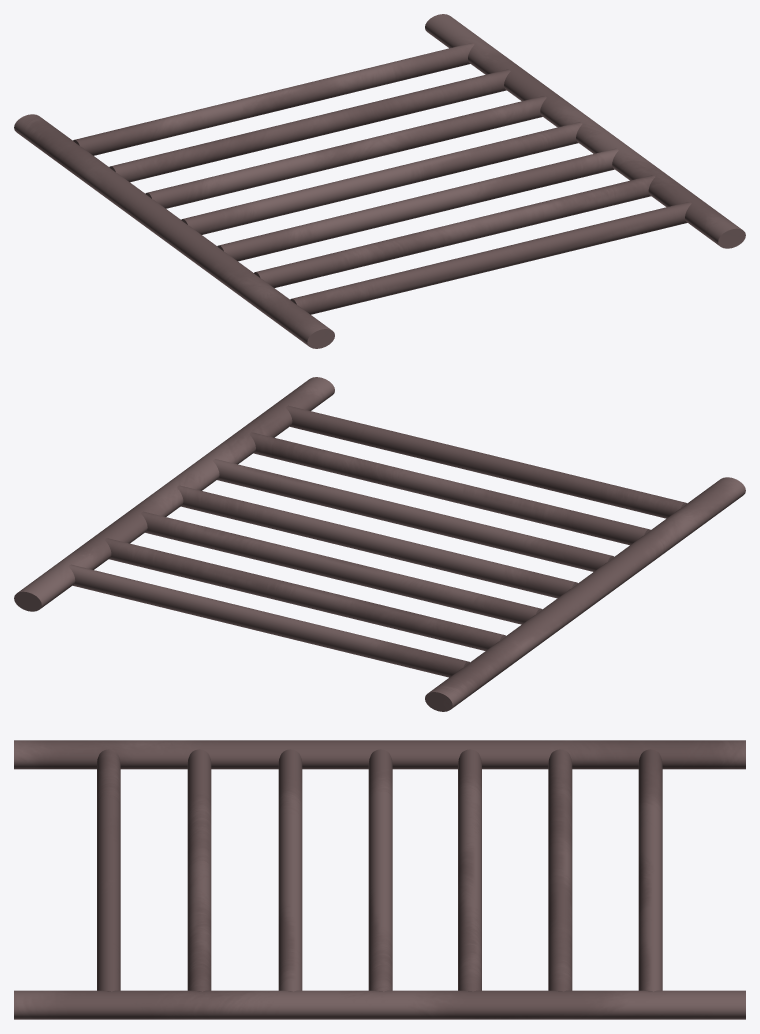
File: OvenWireThingModel.fbx
3 views of the same model, one above another, from view 1: azimuth 30°, elevation 25°; view 2: azimuth 150°, elevation 25°; view 3: azimuth 270°, elevation 25° (orthographic). The views are drawn at different scales.
Visible parts, largest first — view 1: Wire_thing; view 2: Wire_thing; view 3: Wire_thing.
Part boxes in pixels (<box>): Wire_thing: <box>14,14,745,348</box>; Wire_thing: <box>14,377,745,711</box>; Wire_thing: <box>14,740,745,1019</box>.
Size of the model in its own units: 21.03 by 0.8634 by 24.36.
1 material, 1 textured.
